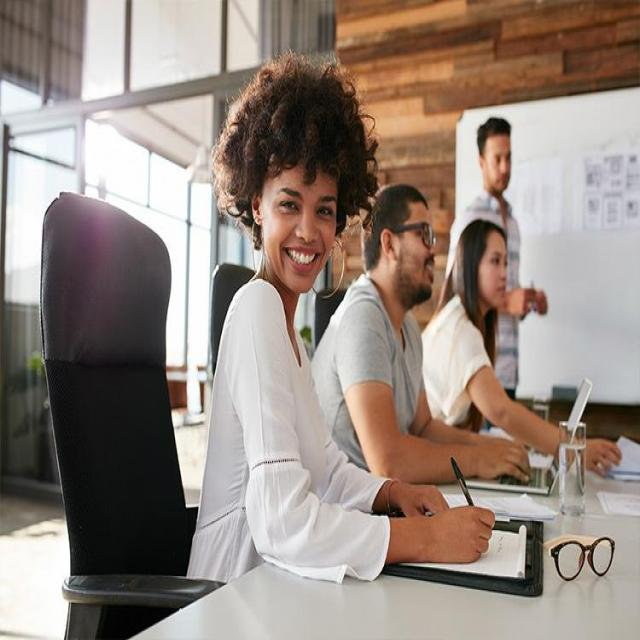person: (197, 47, 373, 548), (347, 146, 452, 573), (440, 203, 538, 475), (462, 98, 526, 251)
